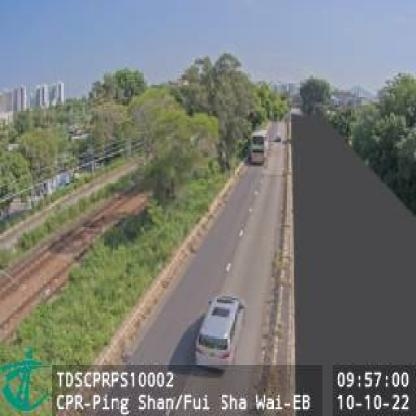Bus: (250, 129, 267, 164)
Car: (192, 296, 246, 366)
